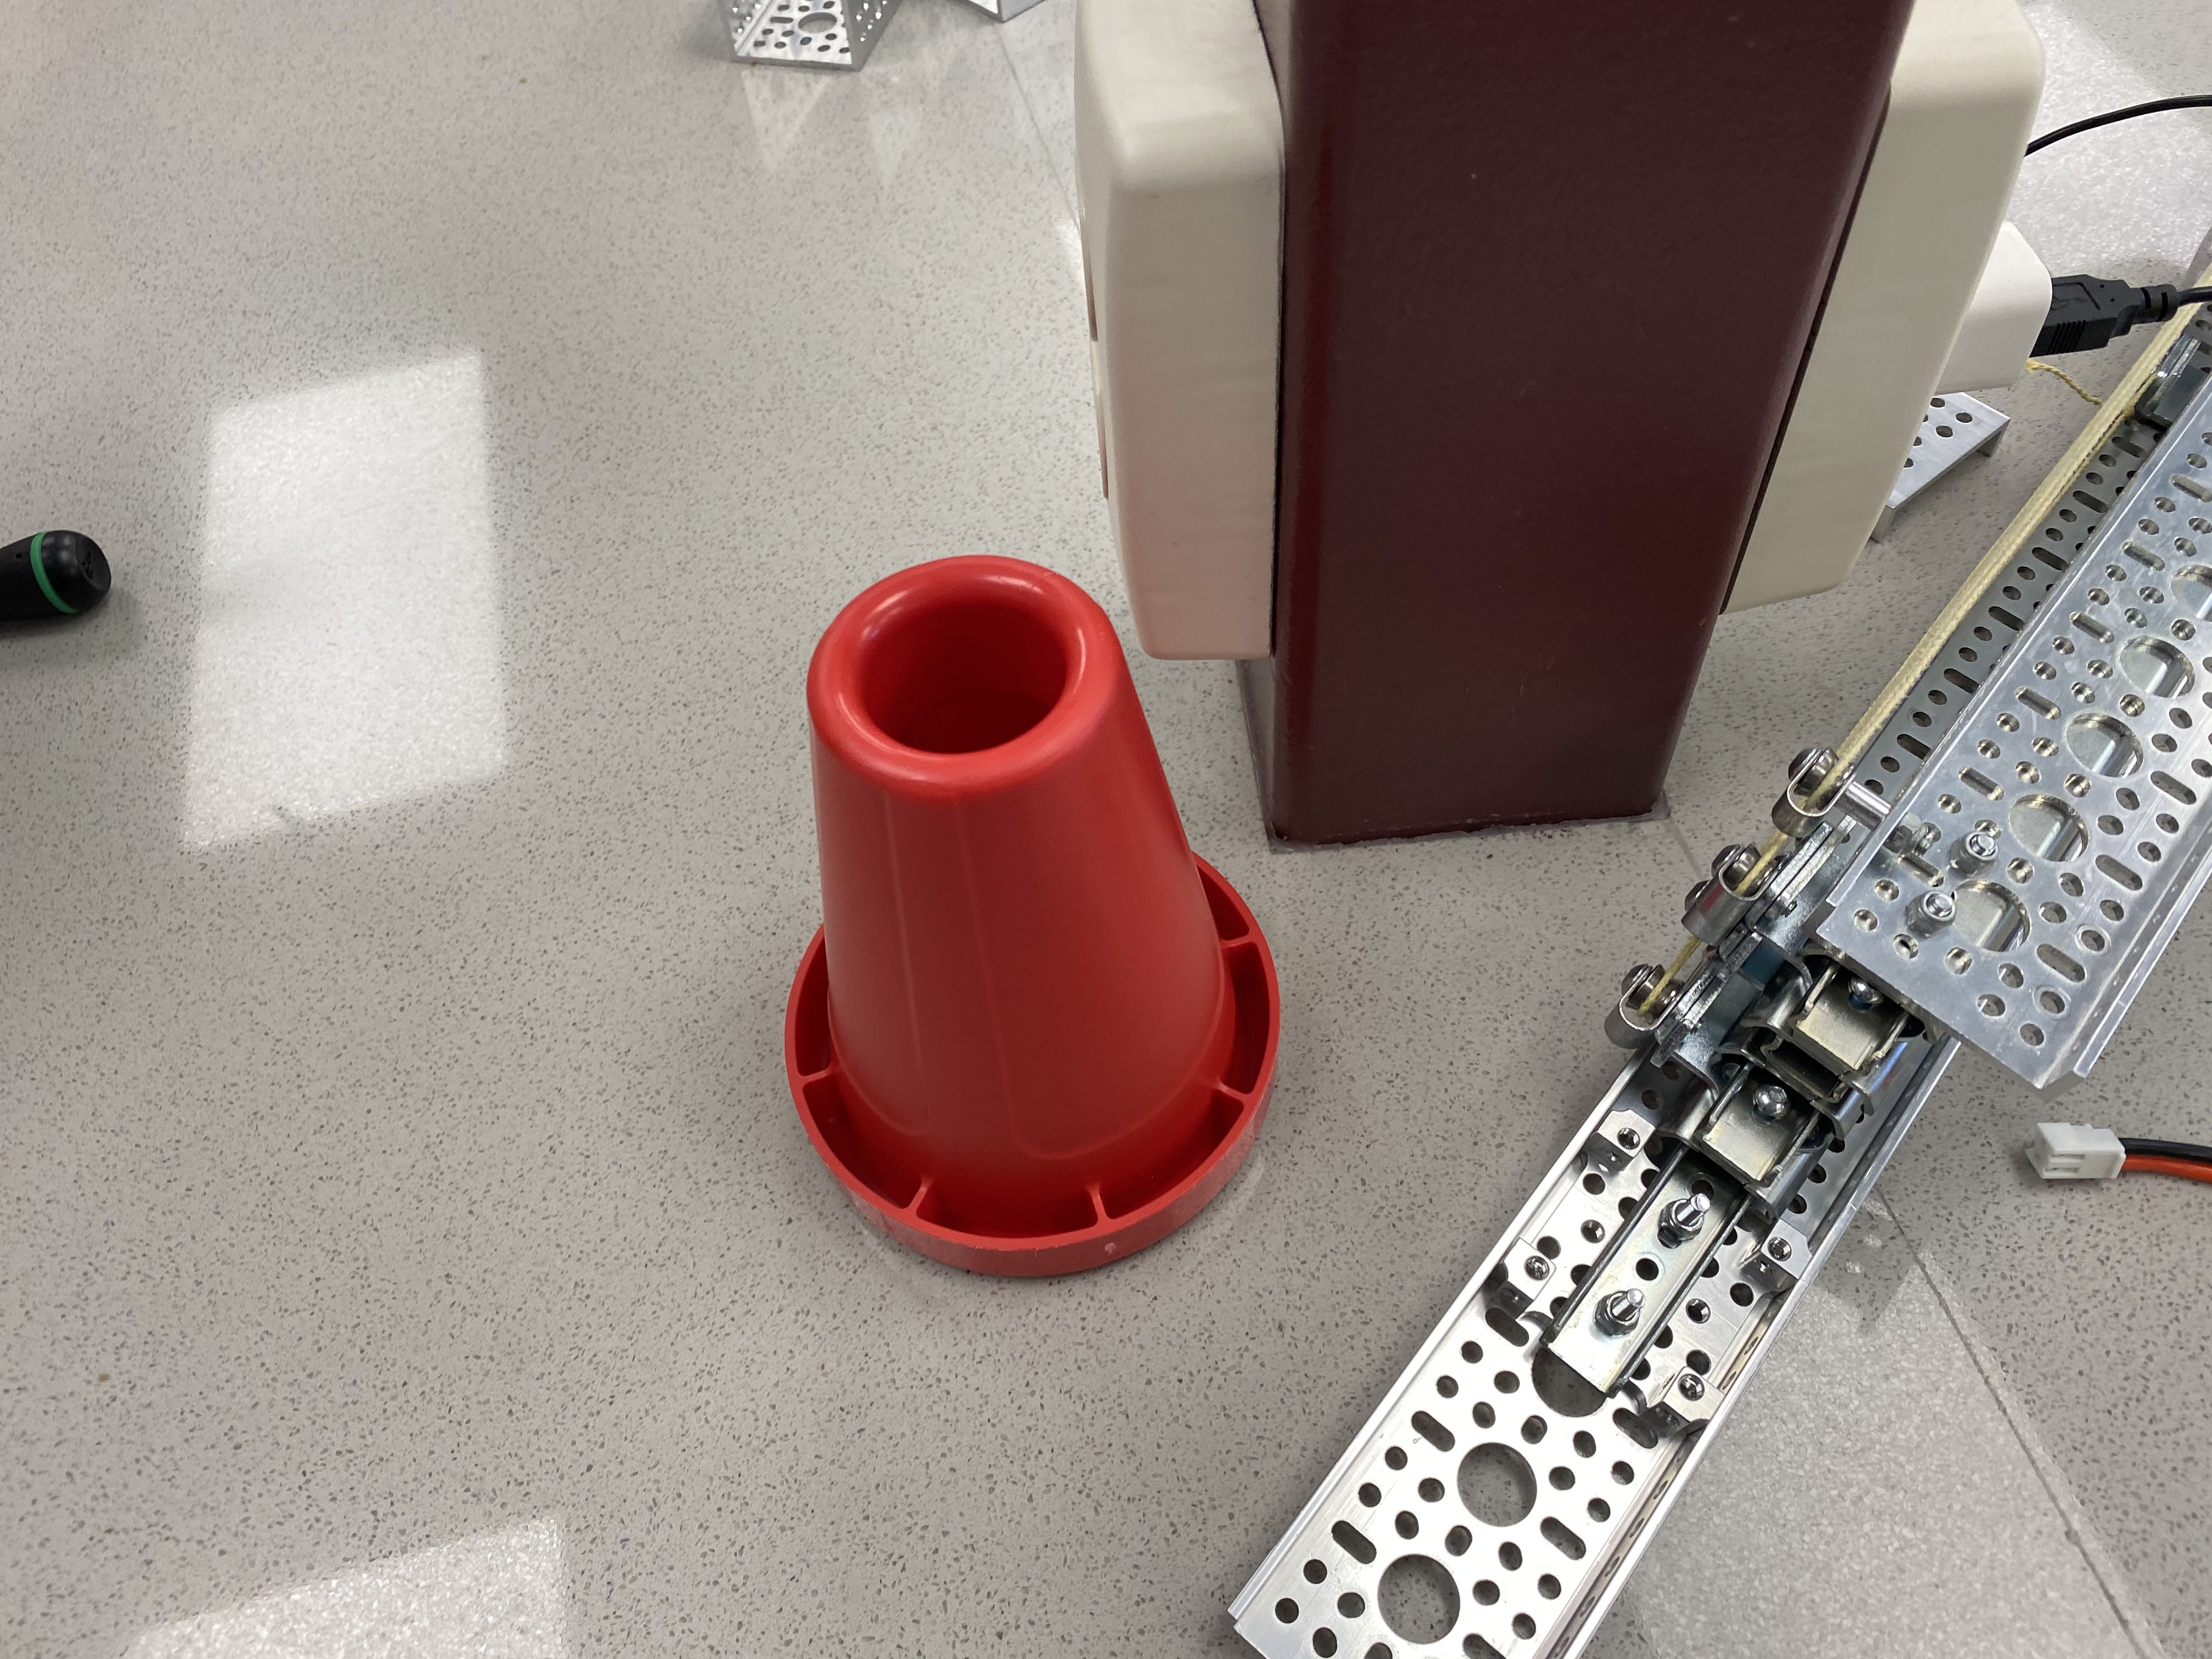redCone: (765, 540, 1296, 1298)
